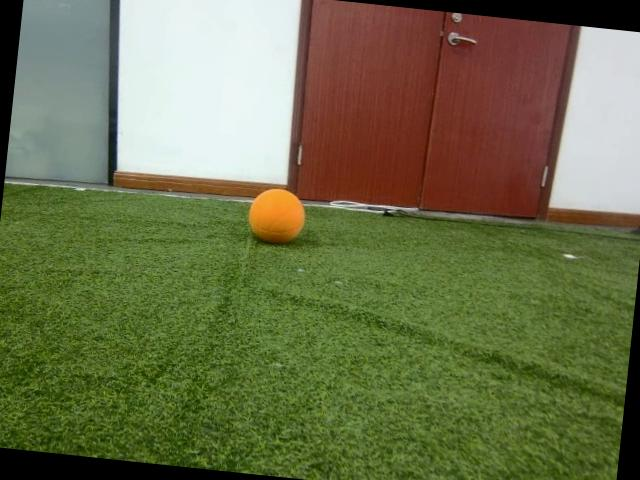orange_ball: (245, 186, 308, 250)
